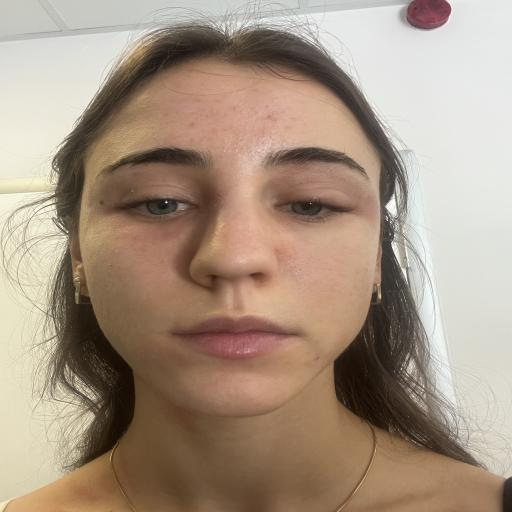masa: (80, 62, 384, 418)
